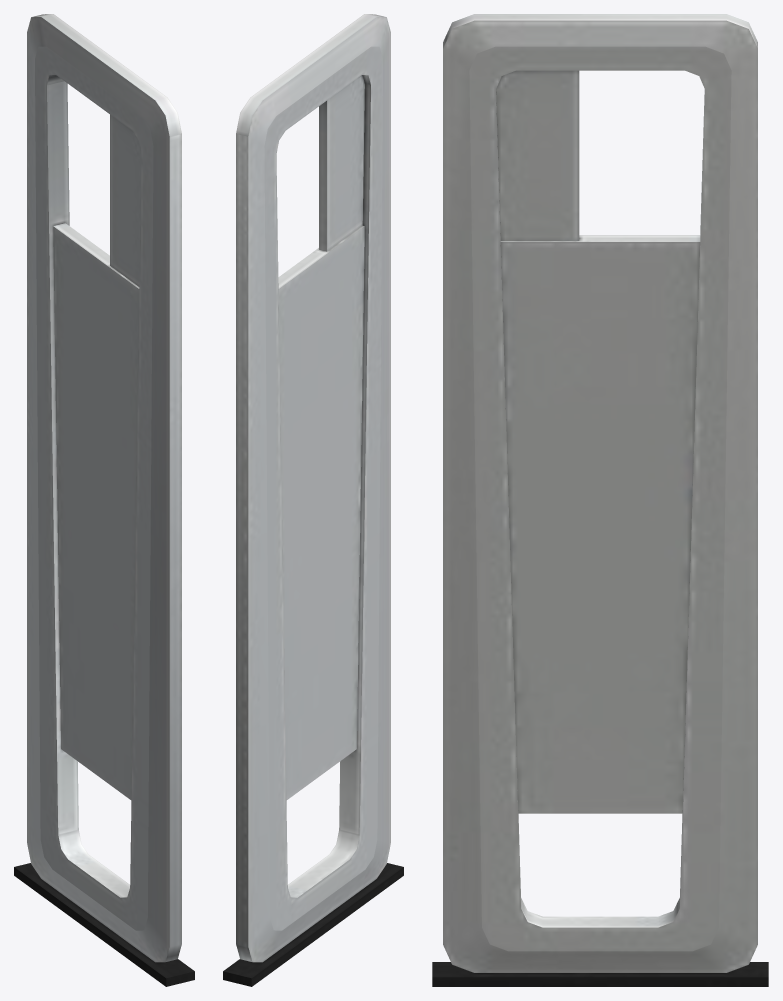
Rendered from DocumentSensitizer.gltf.
3 renders of one model, left to right at view 1: azimuth 30°, elevation 25°; view 2: azimuth 150°, elevation 25°; view 3: azimuth 270°, elevation 25°, orthographic. The views are drawn at different scales.
Parts seen in each view (by area): view 1: DocumentSensitizer; view 2: DocumentSensitizer; view 3: DocumentSensitizer.
Boxes of the visible parts, x1,y1,x2,y2 form: DocumentSensitizer: [14, 14, 194, 986]; DocumentSensitizer: [223, 14, 403, 986]; DocumentSensitizer: [432, 14, 768, 986].
Size of the model in its own units: 0.7 by 20.2 by 6.4.
1 material, 1 textured.
